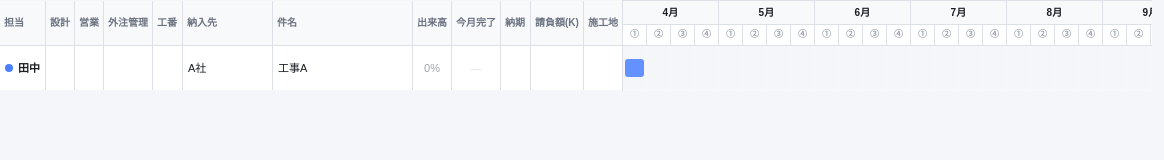
Test: GanttChart › メモ編集: 開く › 鉛筆ボタンをクリックするとメモ入力フィールドが開く
Step 1. Hover over the 1st cell with class "gantt-cell" → {"x": 634, "y": 68}, box [622,45,646,90]
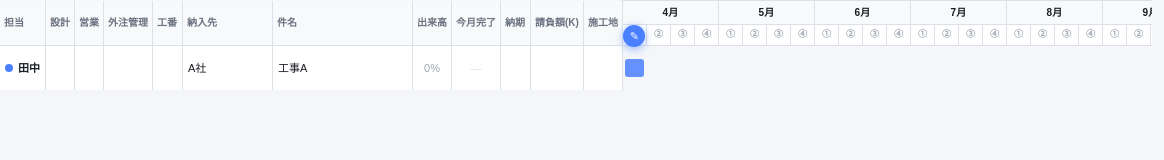
Step 2. Click the text "✎" → {"x": 634, "y": 36}, box [623,25,645,47]
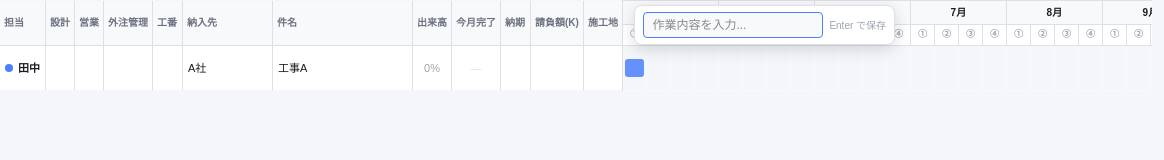
expect the field with placeholder "作業内容を入力..." is shown: met, box [643,12,823,38]
